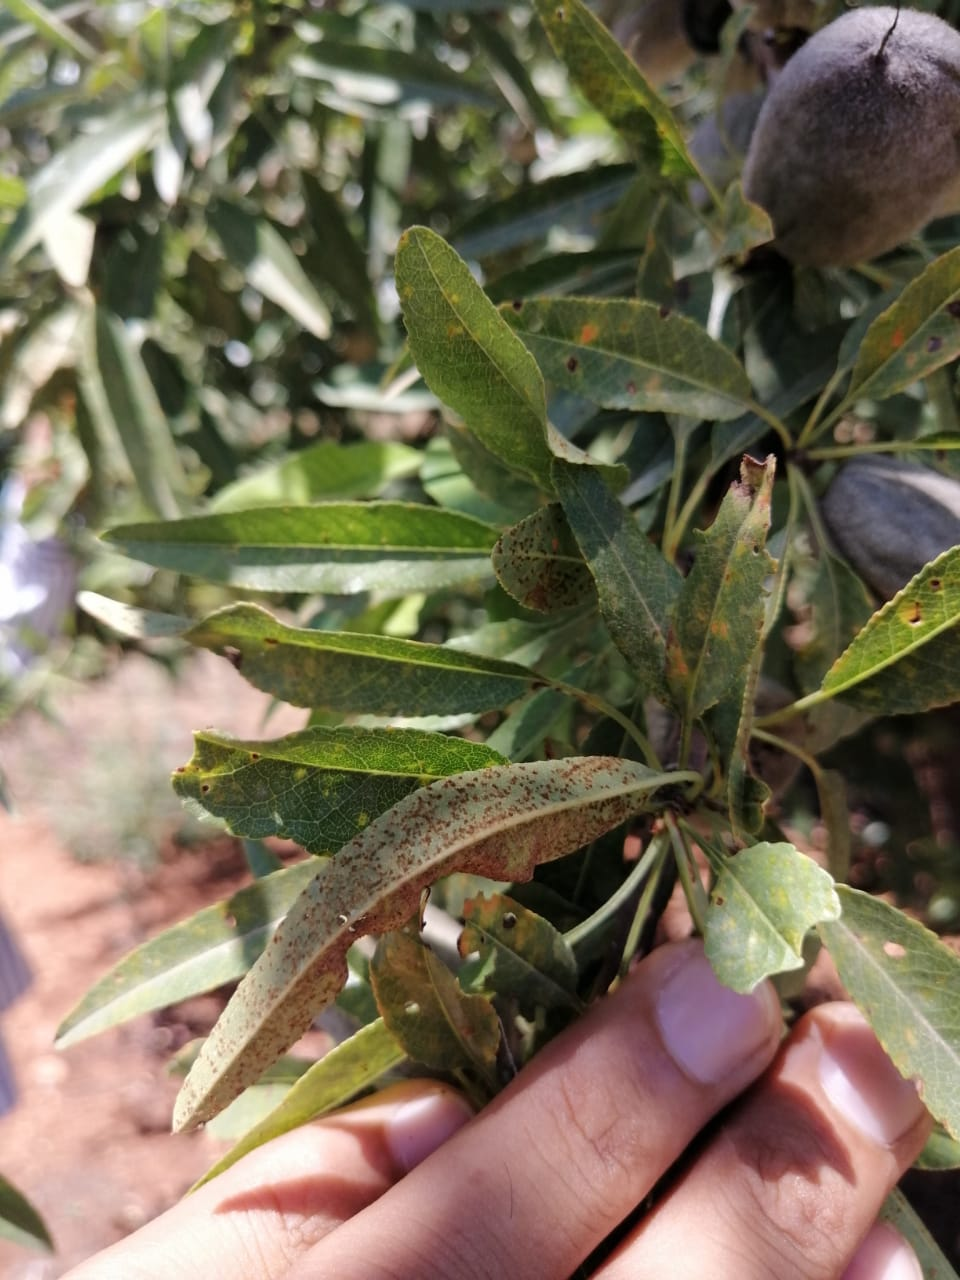rouille: (168, 756, 668, 1142), (672, 454, 782, 722), (794, 541, 960, 711), (702, 860, 844, 991)
